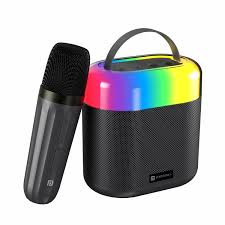microphone: (24, 41, 90, 206)
speaker: (82, 20, 207, 202)
